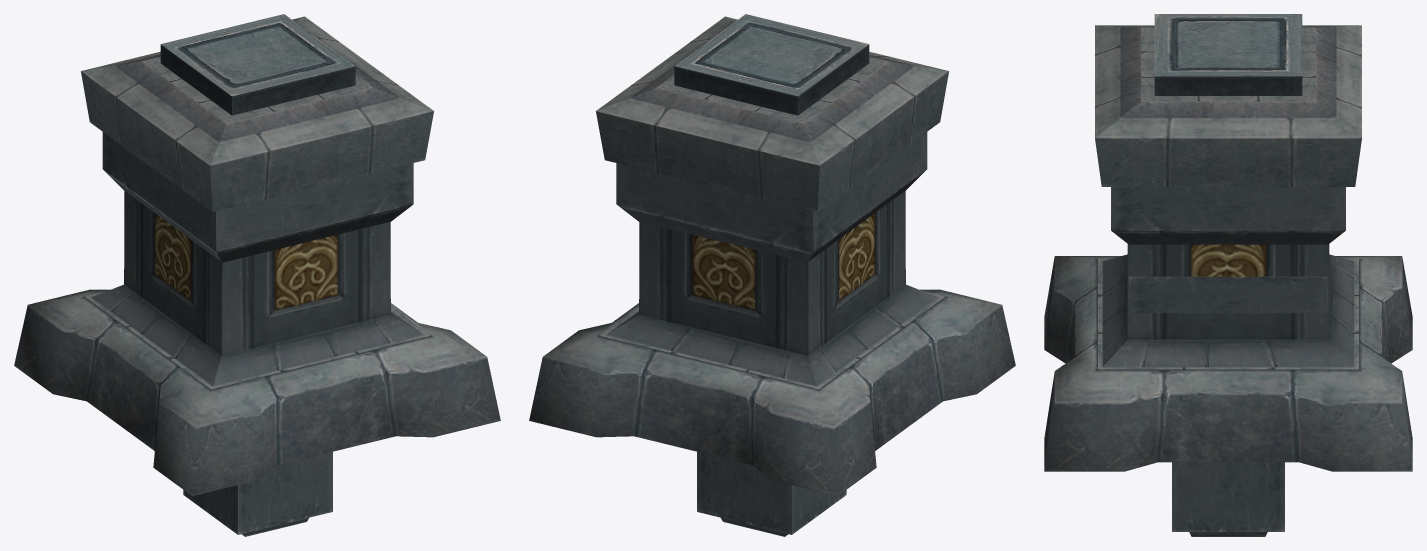
Rendered from shi_zhuang_002.FBX.
3 views of the same model, side by side, from view 1: azimuth 30°, elevation 25°; view 2: azimuth 150°, elevation 25°; view 3: azimuth 270°, elevation 25° (orthographic). The views are drawn at different scales.
Visible parts, largest first — view 1: shi_zhuang_002_b04, shi_zhuang_002_b05, shi_zhuang_002_a05, shi_zhuang_002_a02, shi_zhuang_002_a06; view 2: shi_zhuang_002_b04, shi_zhuang_002_b05, shi_zhuang_002_a05, shi_zhuang_002_a02, shi_zhuang_002_a06; view 3: shi_zhuang_002_b04, shi_zhuang_002_b05, shi_zhuang_002_a05, shi_zhuang_002_a02, shi_zhuang_002_a06, shi_zhuang_002_a01.
Boxes of the visible parts, x1,y1,x2,y2 form: shi_zhuang_002_b04: (81,16,433,386); shi_zhuang_002_b05: (14,289,500,495); shi_zhuang_002_a05: (102,132,413,262); shi_zhuang_002_a02: (160,14,355,115); shi_zhuang_002_a06: (183,451,332,536); shi_zhuang_002_b04: (596,16,948,386); shi_zhuang_002_b05: (529,289,1015,495); shi_zhuang_002_a05: (616,132,927,262); shi_zhuang_002_a02: (674,14,869,115); shi_zhuang_002_a06: (697,451,846,536); shi_zhuang_002_b04: (1095,25,1361,367); shi_zhuang_002_b05: (1044,256,1412,471); shi_zhuang_002_a05: (1111,187,1345,244); shi_zhuang_002_a02: (1154,14,1302,95); shi_zhuang_002_a06: (1172,462,1284,536); shi_zhuang_002_a01: (1128,276,1328,313).
Bounding box in the file's own units: 237 × 338 × 237.
